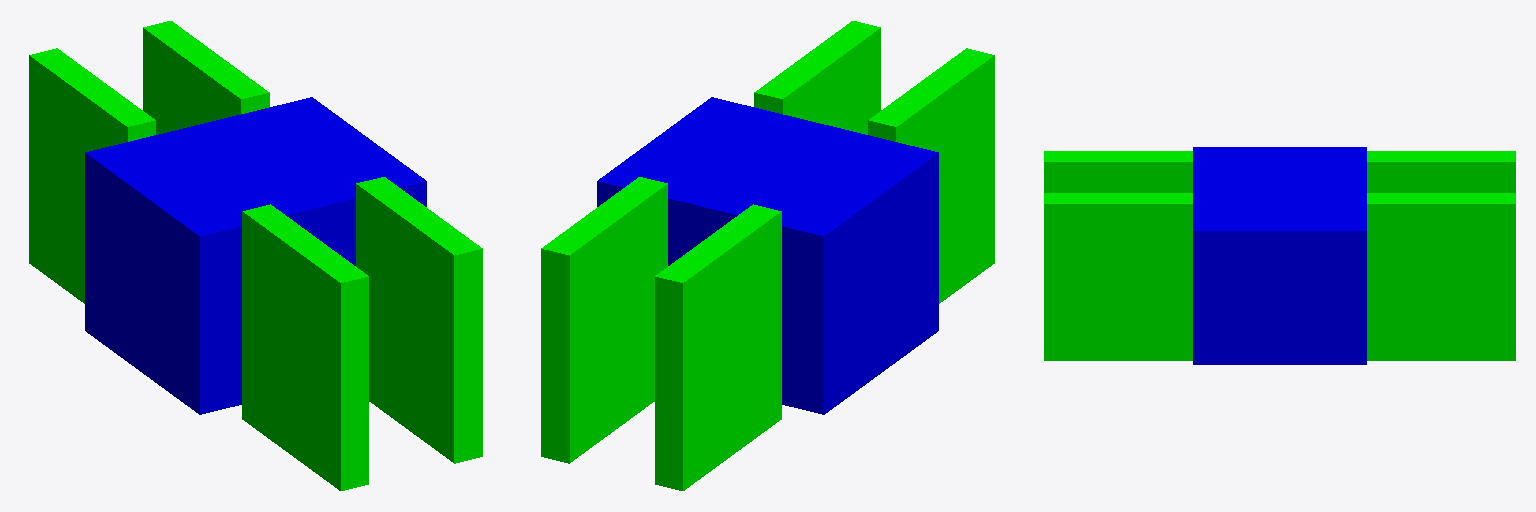
URDF robot description (robot):
<robot name = "robot">
    <link name="root">
        <inertial>
            <origin xyz="0.0 0.0 1.5" rpy="0 0 0"/>
            <mass value="1" />
            <inertia ixx="100" ixy="0" ixz="0" iyy="100" iyz="0" izz="100" />
        </inertial>
        <visual>
            <origin xyz="0.0 0.0 1.5" rpy="0 0 0"/>
            <geometry>
                <box size="0 0 0.0001" />
            </geometry>
            <material name="Green">
                <color rgba="0 1.0 0.0 1.0"/>
            </material>
        </visual>
        <collision>
            <origin xyz="0.0 0.0 1.5" rpy="0 0 0"/>
            <geometry>
                <box size="0 0 0.0001" />
            </geometry>
        </collision>
    </link>
    <joint name="root_000" type="revolute">
       <parent link="root"/>
       <child  link="000"/>
       <origin rpy="0 0 0" xyz="0.0 0.0 1.5" />
     <axis xyz="1 0 0"/>
       <limit effort="0.0" lower="-3.14159" upper="3.14159" velocity="0.0"/>
    </joint>
    <link name="000">
        <inertial>
            <origin xyz="0.2 0.0 0.0" rpy="0 0 0"/>
            <mass value="1" />
            <inertia ixx="100" ixy="0" ixz="0" iyy="100" iyz="0" izz="100" />
        </inertial>
        <visual>
            <origin xyz="0.2 0.0 0.0" rpy="0 0 0"/>
            <geometry>
                <box size="0.4 0.7 0.6" />
            </geometry>
            <material name="Blue">
                <color rgba="0 0.0 1.0 1.0"/>
            </material>
        </visual>
        <collision>
            <origin xyz="0.2 0.0 0.0" rpy="0 0 0"/>
            <geometry>
                <box size="0.4 0.7 0.6" />
            </geometry>
        </collision>
    </link>
    <joint name="000_010" type="revolute">
       <parent link="000"/>
       <child  link="010"/>
       <origin rpy="0 0 0" xyz="0.4 0.0 -0.0" />
     <axis xyz="1 0 0"/>
       <limit effort="0.0" lower="-3.14159" upper="3.14159" velocity="0.0"/>
    </joint>
    <link name="010">
        <inertial>
            <origin xyz="0.2 0.0 -0.0" rpy="0 0 0"/>
            <mass value="1" />
            <inertia ixx="100" ixy="0" ixz="0" iyy="100" iyz="0" izz="100" />
        </inertial>
        <visual>
            <origin xyz="0.2 0.0 -0.0" rpy="0 0 0"/>
            <geometry>
                <box size="0.4 0.7 0.6" />
            </geometry>
            <material name="Blue">
                <color rgba="0 0.0 1.0 1.0"/>
            </material>
        </visual>
        <collision>
            <origin xyz="0.2 0.0 -0.0" rpy="0 0 0"/>
            <geometry>
                <box size="0.4 0.7 0.6" />
            </geometry>
        </collision>
    </link>
    <joint name="010_010-100" type="revolute">
       <parent link="010"/>
       <child  link="010-100"/>
       <origin rpy="0 0 0" xyz="0.2 0.35 -0.0" />
     <axis xyz="0 1 0"/>
       <limit effort="0.0" lower="-3.14159" upper="3.14159" velocity="0.0"/>
    </joint>
    <link name="010-100">
        <inertial>
            <origin xyz="0.0 0.15 -0.0" rpy="0 0 0"/>
            <mass value="1" />
            <inertia ixx="100" ixy="0" ixz="0" iyy="100" iyz="0" izz="100" />
        </inertial>
        <visual>
            <origin xyz="0.0 0.15 -0.0" rpy="0 0 0"/>
            <geometry>
                <box size="0.1 0.3 0.7" />
            </geometry>
            <material name="Green">
                <color rgba="0 1.0 0.0 1.0"/>
            </material>
        </visual>
        <collision>
            <origin xyz="0.0 0.15 -0.0" rpy="0 0 0"/>
            <geometry>
                <box size="0.1 0.3 0.7" />
            </geometry>
        </collision>
    </link>
    <joint name="010-100_010-110" type="revolute">
       <parent link="010-100"/>
       <child  link="010-110"/>
       <origin rpy="0 0 0" xyz="0.0 0.3 -0.0" />
     <axis xyz="0 1 0"/>
       <limit effort="0.0" lower="-3.14159" upper="3.14159" velocity="0.0"/>
    </joint>
    <link name="010-110">
        <inertial>
            <origin xyz="0.0 0.15 -0.0" rpy="0 0 0"/>
            <mass value="1" />
            <inertia ixx="100" ixy="0" ixz="0" iyy="100" iyz="0" izz="100" />
        </inertial>
        <visual>
            <origin xyz="0.0 0.15 -0.0" rpy="0 0 0"/>
            <geometry>
                <box size="0.1 0.3 0.7" />
            </geometry>
            <material name="Green">
                <color rgba="0 1.0 0.0 1.0"/>
            </material>
        </visual>
        <collision>
            <origin xyz="0.0 0.15 -0.0" rpy="0 0 0"/>
            <geometry>
                <box size="0.1 0.3 0.7" />
            </geometry>
        </collision>
    </link>
    <joint name="010_010-101" type="revolute">
       <parent link="010"/>
       <child  link="010-101"/>
       <origin rpy="0 0 0" xyz="0.2 -0.35 -0.0" />
     <axis xyz="0 1 0"/>
       <limit effort="0.0" lower="-3.14159" upper="3.14159" velocity="0.0"/>
    </joint>
    <link name="010-101">
        <inertial>
            <origin xyz="0.0 -0.15 -0.0" rpy="0 0 0"/>
            <mass value="1" />
            <inertia ixx="100" ixy="0" ixz="0" iyy="100" iyz="0" izz="100" />
        </inertial>
        <visual>
            <origin xyz="0.0 -0.15 -0.0" rpy="0 0 0"/>
            <geometry>
                <box size="0.1 0.3 0.7" />
            </geometry>
            <material name="Green">
                <color rgba="0 1.0 0.0 1.0"/>
            </material>
        </visual>
        <collision>
            <origin xyz="0.0 -0.15 -0.0" rpy="0 0 0"/>
            <geometry>
                <box size="0.1 0.3 0.7" />
            </geometry>
        </collision>
    </link>
    <joint name="010-101_010-111" type="revolute">
       <parent link="010-101"/>
       <child  link="010-111"/>
       <origin rpy="0 0 0" xyz="0.0 -0.3 -0.0" />
     <axis xyz="0 1 0"/>
       <limit effort="0.0" lower="-3.14159" upper="3.14159" velocity="0.0"/>
    </joint>
    <link name="010-111">
        <inertial>
            <origin xyz="0.0 -0.15 -0.0" rpy="0 0 0"/>
            <mass value="1" />
            <inertia ixx="100" ixy="0" ixz="0" iyy="100" iyz="0" izz="100" />
        </inertial>
        <visual>
            <origin xyz="0.0 -0.15 -0.0" rpy="0 0 0"/>
            <geometry>
                <box size="0.1 0.3 0.7" />
            </geometry>
            <material name="Green">
                <color rgba="0 1.0 0.0 1.0"/>
            </material>
        </visual>
        <collision>
            <origin xyz="0.0 -0.15 -0.0" rpy="0 0 0"/>
            <geometry>
                <box size="0.1 0.3 0.7" />
            </geometry>
        </collision>
    </link>
    <joint name="000_000-100" type="revolute">
       <parent link="000"/>
       <child  link="000-100"/>
       <origin rpy="0 0 0" xyz="0.2 0.35 -0.0" />
     <axis xyz="0 1 0"/>
       <limit effort="0.0" lower="-3.14159" upper="3.14159" velocity="0.0"/>
    </joint>
    <link name="000-100">
        <inertial>
            <origin xyz="0.0 0.15 -0.0" rpy="0 0 0"/>
            <mass value="1" />
            <inertia ixx="100" ixy="0" ixz="0" iyy="100" iyz="0" izz="100" />
        </inertial>
        <visual>
            <origin xyz="0.0 0.15 -0.0" rpy="0 0 0"/>
            <geometry>
                <box size="0.1 0.3 0.7" />
            </geometry>
            <material name="Green">
                <color rgba="0 1.0 0.0 1.0"/>
            </material>
        </visual>
        <collision>
            <origin xyz="0.0 0.15 -0.0" rpy="0 0 0"/>
            <geometry>
                <box size="0.1 0.3 0.7" />
            </geometry>
        </collision>
    </link>
    <joint name="000-100_000-110" type="revolute">
       <parent link="000-100"/>
       <child  link="000-110"/>
       <origin rpy="0 0 0" xyz="0.0 0.3 -0.0" />
     <axis xyz="0 1 0"/>
       <limit effort="0.0" lower="-3.14159" upper="3.14159" velocity="0.0"/>
    </joint>
    <link name="000-110">
        <inertial>
            <origin xyz="0.0 0.15 -0.0" rpy="0 0 0"/>
            <mass value="1" />
            <inertia ixx="100" ixy="0" ixz="0" iyy="100" iyz="0" izz="100" />
        </inertial>
        <visual>
            <origin xyz="0.0 0.15 -0.0" rpy="0 0 0"/>
            <geometry>
                <box size="0.1 0.3 0.7" />
            </geometry>
            <material name="Green">
                <color rgba="0 1.0 0.0 1.0"/>
            </material>
        </visual>
        <collision>
            <origin xyz="0.0 0.15 -0.0" rpy="0 0 0"/>
            <geometry>
                <box size="0.1 0.3 0.7" />
            </geometry>
        </collision>
    </link>
    <joint name="000_000-101" type="revolute">
       <parent link="000"/>
       <child  link="000-101"/>
       <origin rpy="0 0 0" xyz="0.2 -0.35 -0.0" />
     <axis xyz="0 1 0"/>
       <limit effort="0.0" lower="-3.14159" upper="3.14159" velocity="0.0"/>
    </joint>
    <link name="000-101">
        <inertial>
            <origin xyz="0.0 -0.15 -0.0" rpy="0 0 0"/>
            <mass value="1" />
            <inertia ixx="100" ixy="0" ixz="0" iyy="100" iyz="0" izz="100" />
        </inertial>
        <visual>
            <origin xyz="0.0 -0.15 -0.0" rpy="0 0 0"/>
            <geometry>
                <box size="0.1 0.3 0.7" />
            </geometry>
            <material name="Green">
                <color rgba="0 1.0 0.0 1.0"/>
            </material>
        </visual>
        <collision>
            <origin xyz="0.0 -0.15 -0.0" rpy="0 0 0"/>
            <geometry>
                <box size="0.1 0.3 0.7" />
            </geometry>
        </collision>
    </link>
    <joint name="000-101_000-111" type="revolute">
       <parent link="000-101"/>
       <child  link="000-111"/>
       <origin rpy="0 0 0" xyz="0.0 -0.3 -0.0" />
     <axis xyz="0 1 0"/>
       <limit effort="0.0" lower="-3.14159" upper="3.14159" velocity="0.0"/>
    </joint>
    <link name="000-111">
        <inertial>
            <origin xyz="0.0 -0.15 -0.0" rpy="0 0 0"/>
            <mass value="1" />
            <inertia ixx="100" ixy="0" ixz="0" iyy="100" iyz="0" izz="100" />
        </inertial>
        <visual>
            <origin xyz="0.0 -0.15 -0.0" rpy="0 0 0"/>
            <geometry>
                <box size="0.1 0.3 0.7" />
            </geometry>
            <material name="Green">
                <color rgba="0 1.0 0.0 1.0"/>
            </material>
        </visual>
        <collision>
            <origin xyz="0.0 -0.15 -0.0" rpy="0 0 0"/>
            <geometry>
                <box size="0.1 0.3 0.7" />
            </geometry>
        </collision>
    </link>
</robot>

--- What the picture shows (computed from the rendered views, not written in the file) ---
The picture shows the robot from 3 angles, left to right: view 1: azimuth 30°, elevation 25°; view 2: azimuth 150°, elevation 25°; view 3: azimuth 270°, elevation 25°; orthographic projection.
Robot: robot — 11 links, 10 joints (10 revolute); root link root; default pose: all joints at 0.
Visible links, largest first — view 1: 000, 010-111, 000-111, 010, 000-101, 000-110, 010-101, 010-110, 000-100, 010-100; view 2: 000, 010-110, 000-110, 010, 000-100, 000-111, 010-100, 010-111, 000-101, 010-101; view 3: 010, 010-110, 010-111, 010-100, 010-101, 000, 000-110, 000-111, 000-100, 000-101.
Link boxes in pixels (x1,y1,x2,y2): 000: [85, 125, 312, 414]; 010-111: [405, 213, 482, 463]; 000-111: [292, 241, 368, 490]; 010: [200, 97, 426, 265]; 000-101: [242, 204, 319, 454]; 000-110: [29, 48, 105, 298]; 010-101: [356, 177, 433, 426]; 010-110: [143, 21, 219, 134]; 000-100: [78, 84, 155, 303]; 010-100: [192, 57, 269, 125]; 000: [711, 125, 938, 414]; 010-110: [541, 213, 618, 463]; 000-110: [655, 241, 731, 490]; 010: [597, 97, 823, 265]; 000-100: [704, 204, 781, 454]; 000-111: [918, 48, 994, 298]; 010-100: [590, 177, 667, 426]; 010-111: [804, 21, 880, 134]; 000-101: [868, 84, 945, 303]; 010-101: [754, 57, 831, 125]; 010: [1193, 189, 1366, 364]; 010-110: [1441, 193, 1515, 360]; 010-111: [1044, 193, 1118, 360]; 010-100: [1367, 193, 1440, 360]; 010-101: [1119, 193, 1192, 360]; 000: [1193, 147, 1366, 188]; 000-110: [1441, 151, 1515, 192]; 000-111: [1044, 151, 1118, 192]; 000-100: [1367, 151, 1440, 192]; 000-101: [1119, 151, 1192, 192].
Size in the robot's own frame: 0.8 by 1.9 by 0.7 metres.
Geometry: primitives only (box / cylinder / sphere), no mesh files.